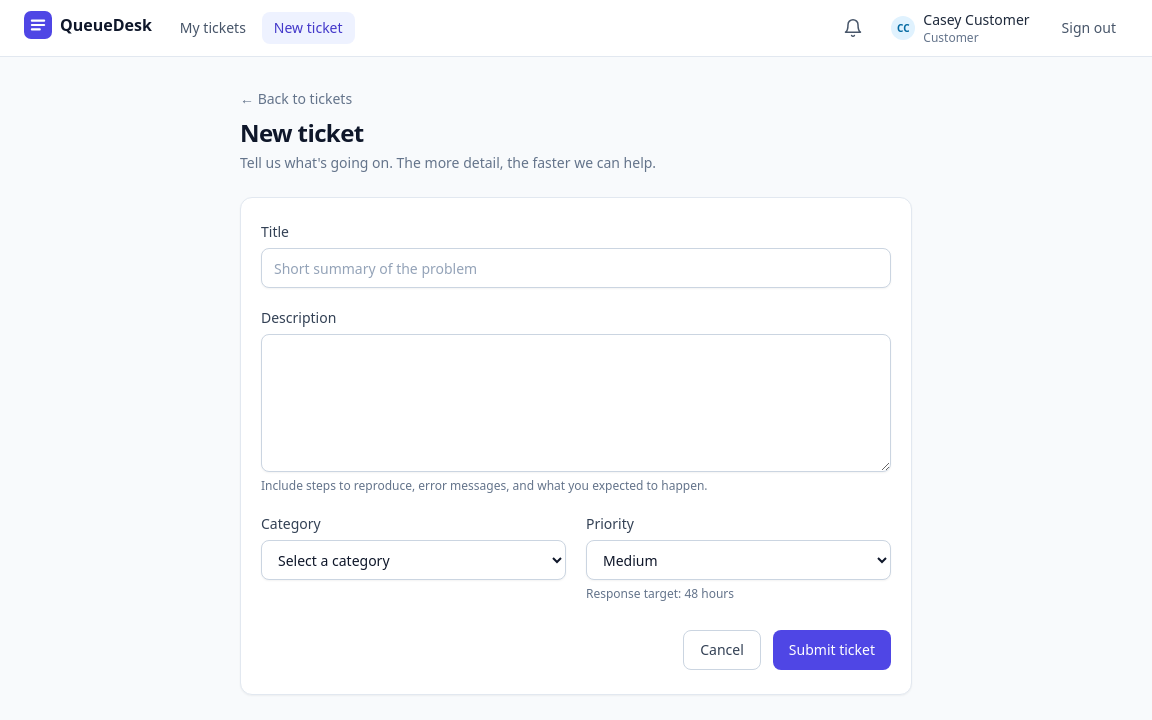
Test: create ticket page › validates input inline
Click the button "Submit ticket" at coordinates (832, 650), box x1=773 y1=630 x2=891 y2=670
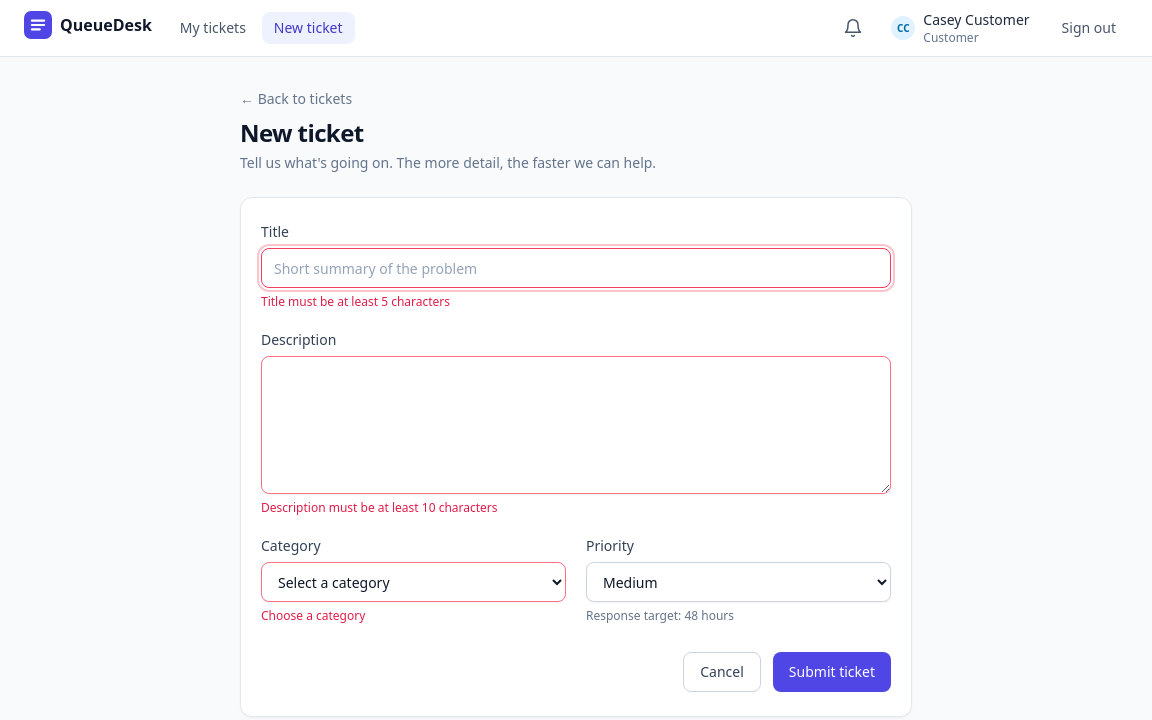
Now the text "Title must be at least 5 characters" is shown, box x1=261 y1=293 x2=450 y2=310
Now the text "Choose a category" is shown, box x1=261 y1=607 x2=365 y2=624
